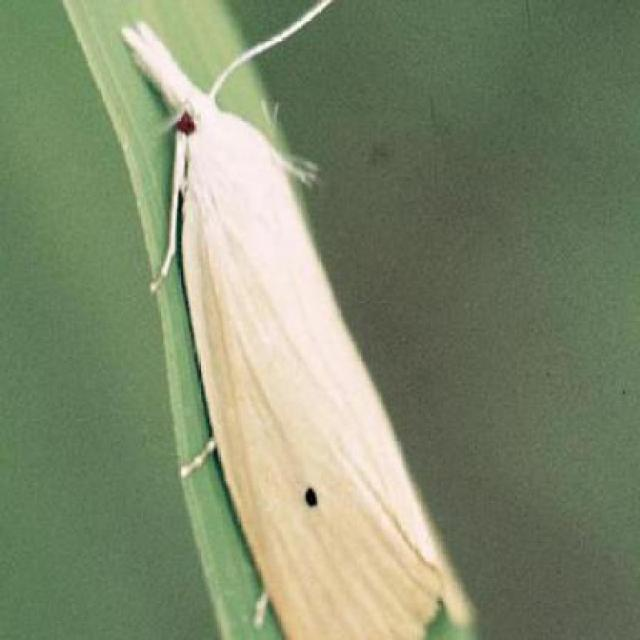stem-borer: (116, 15, 478, 640)
